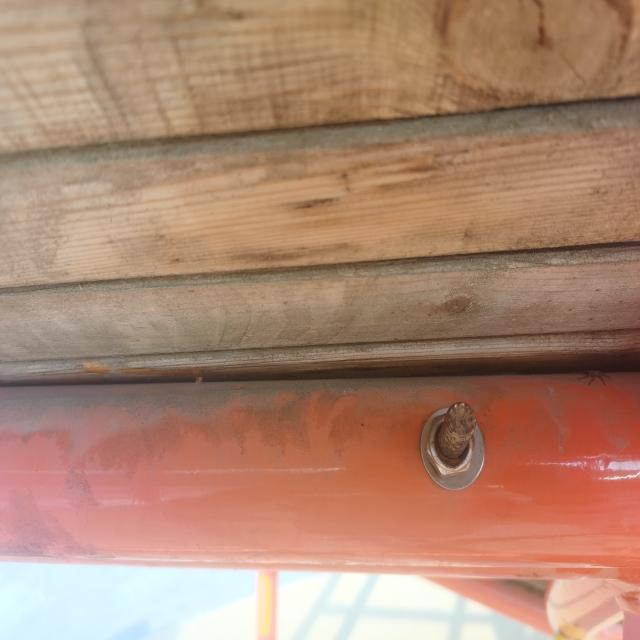bolt nut: (422, 410, 478, 483)
